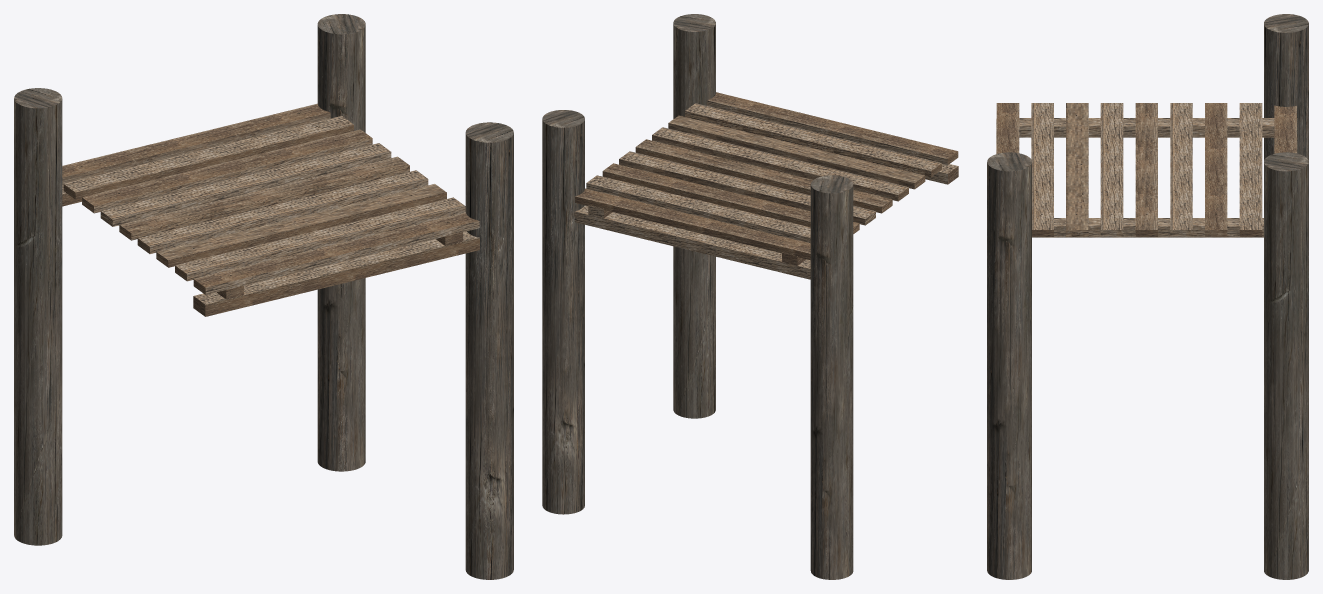
Rendered from madera.fbx.
3 views of the same model, side by side, from view 1: azimuth 30°, elevation 25°; view 2: azimuth 150°, elevation 25°; view 3: azimuth 270°, elevation 25° (orthographic). The views are drawn at different scales.
Visible parts, largest first — view 1: Piso_Madera_4x4, Soporte_Piso, Poste, Viga; view 2: Soporte_Piso, Piso_Madera_4x4, Poste; view 3: Piso_Madera_4x4, Soporte_Piso, Poste.
Boxes of the visible parts, x1,y1,x2,y2 form: Piso_Madera_4x4: [62, 103, 479, 299]; Soporte_Piso: [14, 14, 365, 545]; Poste: [465, 122, 513, 579]; Viga: [193, 231, 479, 316]; Soporte_Piso: [542, 110, 853, 579]; Piso_Madera_4x4: [575, 92, 958, 265]; Poste: [673, 14, 715, 418]; Piso_Madera_4x4: [996, 103, 1297, 237]; Soporte_Piso: [1264, 14, 1308, 579]; Poste: [987, 152, 1031, 579].
Bounding box in the file's own units: 496 × 600 × 428.
Materials: 9 (7 with a texture image).
